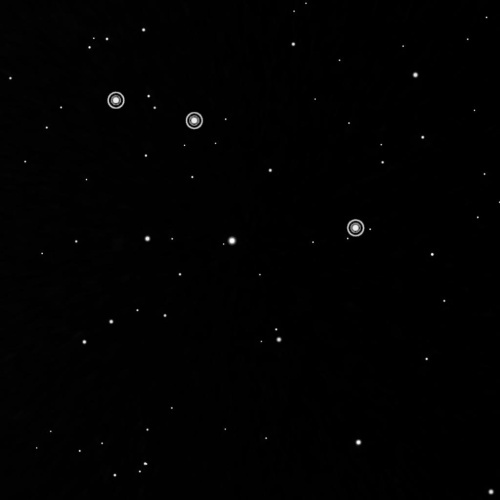vulpecula: (102, 85, 370, 239)
